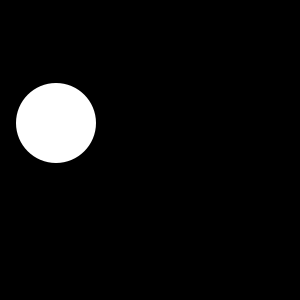rectangle: (16, 83, 96, 163)
